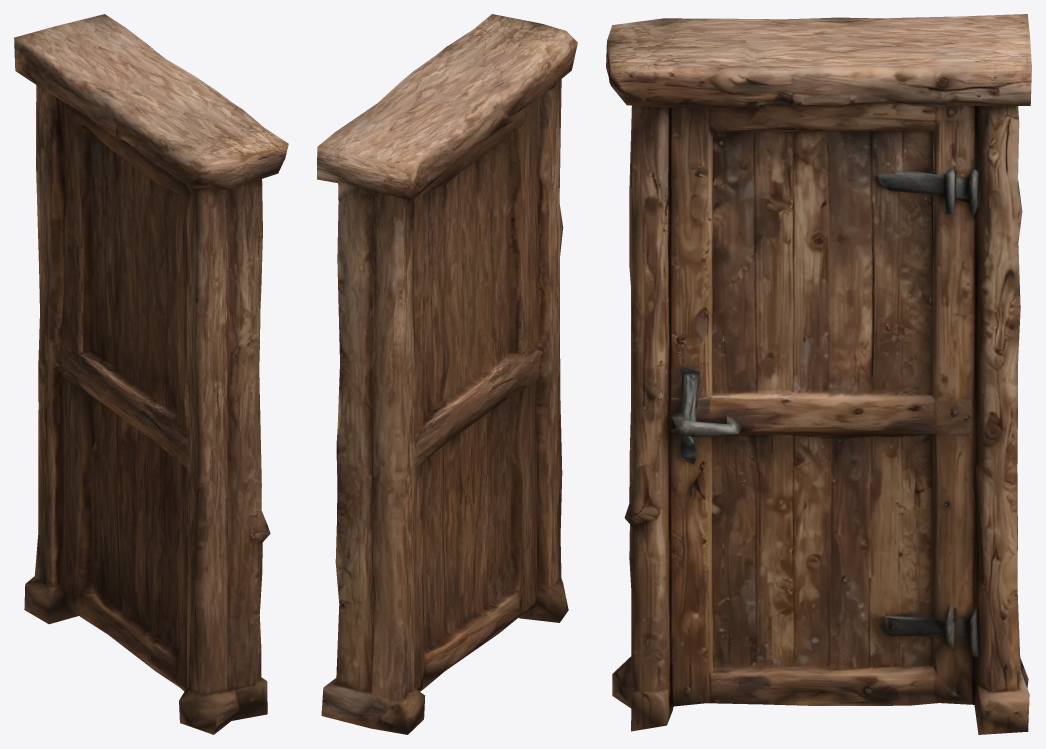
File: kh_door.glb
3 renders of one model, left to right at view 1: azimuth 30°, elevation 25°; view 2: azimuth 150°, elevation 25°; view 3: azimuth 270°, elevation 25°, orthographic. The views are drawn at different scales.
Visible parts, largest first — view 1: tripo_node_13cfb159-8c07-4643-beb4-a3e796a9d469; view 2: tripo_node_13cfb159-8c07-4643-beb4-a3e796a9d469; view 3: tripo_node_13cfb159-8c07-4643-beb4-a3e796a9d469.
Part boxes in pixels (x1,y1,x2,y2): tripo_node_13cfb159-8c07-4643-beb4-a3e796a9d469: [14, 14, 288, 734]; tripo_node_13cfb159-8c07-4643-beb4-a3e796a9d469: [317, 14, 577, 734]; tripo_node_13cfb159-8c07-4643-beb4-a3e796a9d469: [606, 14, 1031, 734].
Size of the model in its own units: 0.2021 by 1 by 0.575.
Materials: 1 (1 with a texture image).
